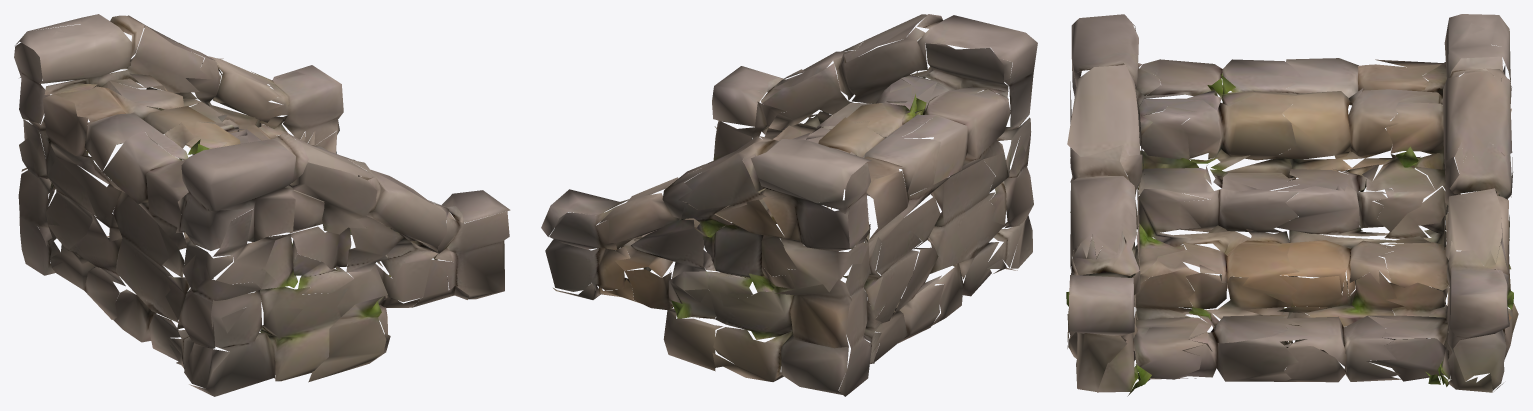
Rendered from stairs_stone_lite.glb.
3 renders of one model, left to right at view 1: azimuth 30°, elevation 25°; view 2: azimuth 150°, elevation 25°; view 3: azimuth 270°, elevation 25°, orthographic. The views are drawn at different scales.
Parts seen in each view (by area): view 1: tripo_node_ca8a87b0-69b4-4206-b909-c1a4d31dd16f; view 2: tripo_node_ca8a87b0-69b4-4206-b909-c1a4d31dd16f; view 3: tripo_node_ca8a87b0-69b4-4206-b909-c1a4d31dd16f.
Part boxes in pixels (box(x1,y1,x2,y2)): tripo_node_ca8a87b0-69b4-4206-b909-c1a4d31dd16f: box(14, 14, 510, 396); tripo_node_ca8a87b0-69b4-4206-b909-c1a4d31dd16f: box(541, 14, 1037, 396); tripo_node_ca8a87b0-69b4-4206-b909-c1a4d31dd16f: box(1066, 14, 1518, 396).
Size of the model in its own units: 0.8596 by 0.6216 by 0.9742.
Materials: 1 (1 with a texture image).
